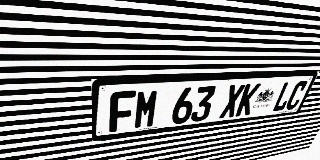3: (190, 86, 217, 122)
6: (170, 87, 197, 125)
C: (284, 80, 309, 110)
F: (109, 90, 136, 132)
K: (235, 83, 261, 117)
L: (271, 81, 297, 112)
M: (133, 89, 160, 129)
X: (219, 84, 246, 119)
